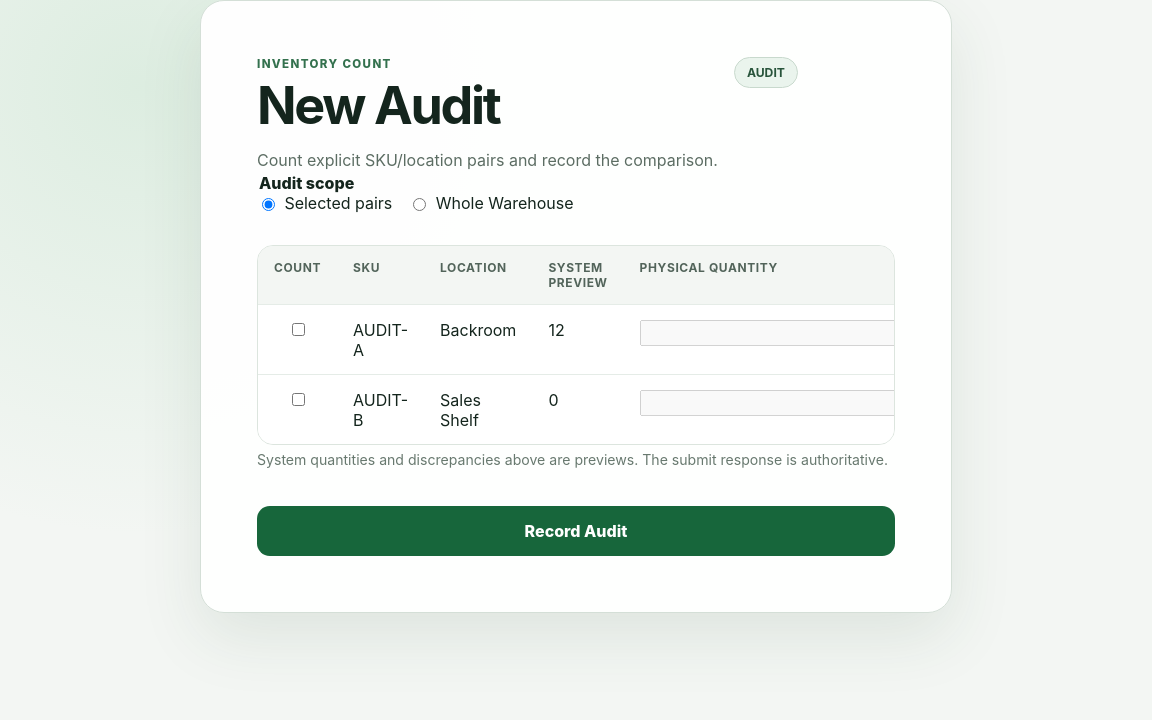
Test case: US-AUD-001 Audit page › reuses a key after response loss and shows stock-unchanged copy
Step 1. Click the checkbox named "Count AUDIT-B at SALES_SHELF" → click(298, 399), box [292,392,304,406]
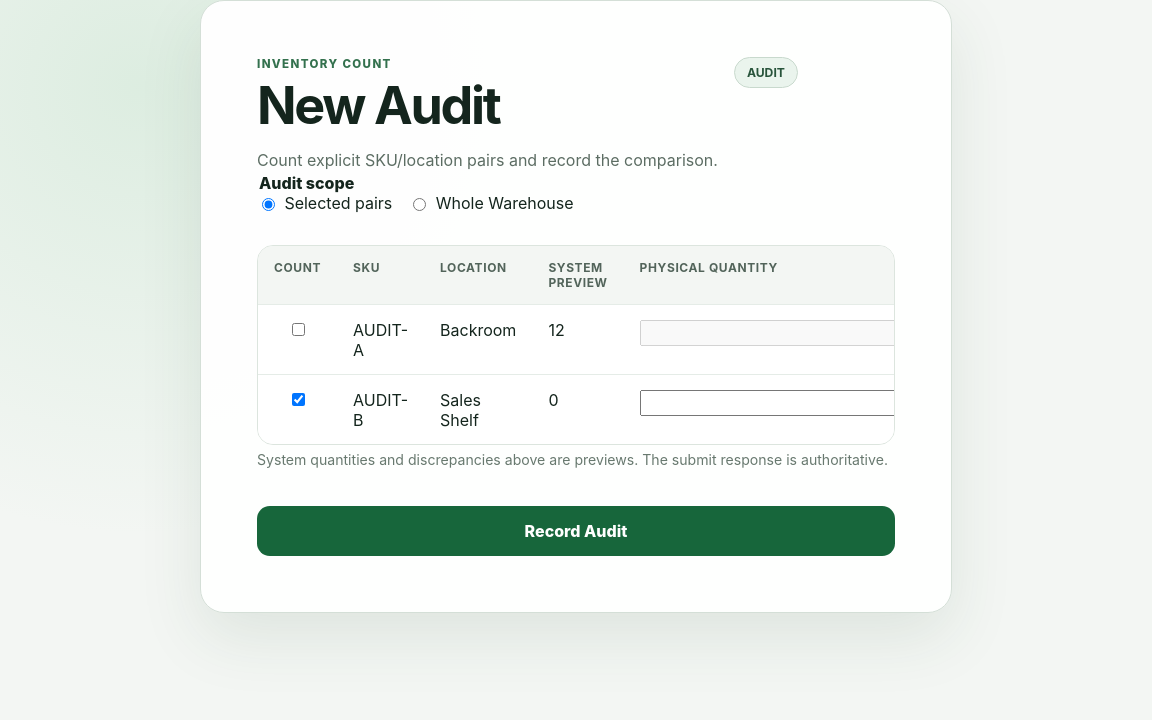
Step 2. Type "3" into the field named "Physical quantity for AUDIT-B at SALES_SHELF" → (768, 402), box [640,390,896,416]
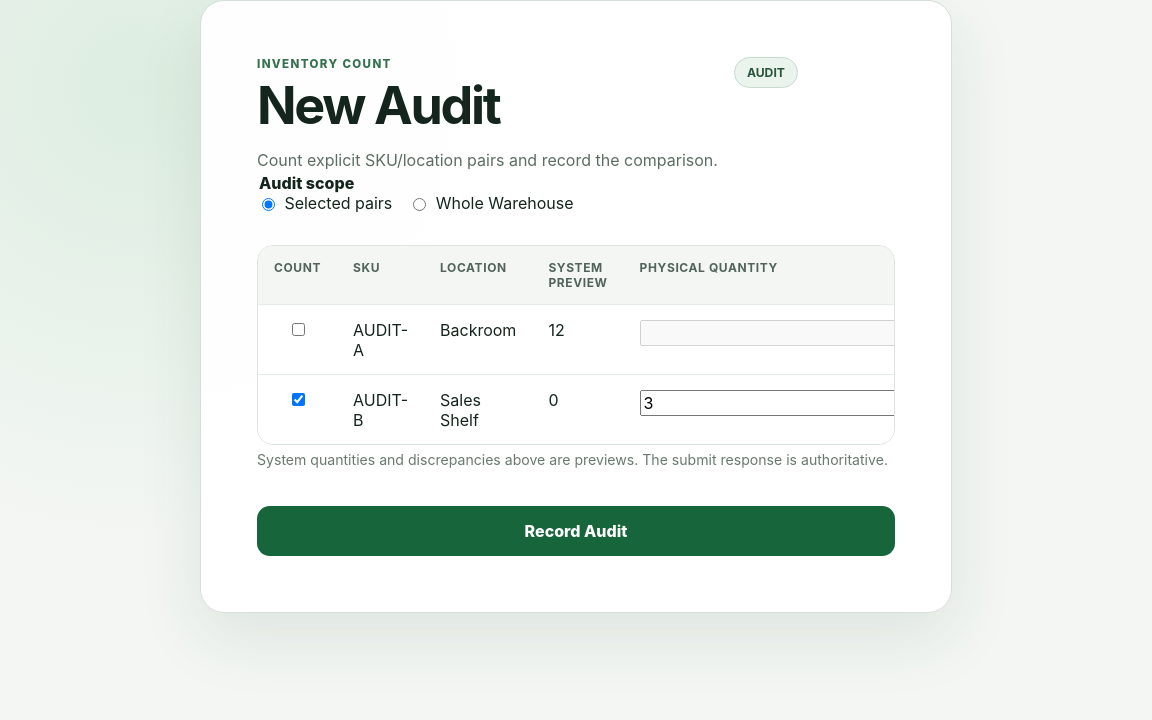
Step 3. Click the button "Record Audit" → click(576, 531), box [257,506,895,556]
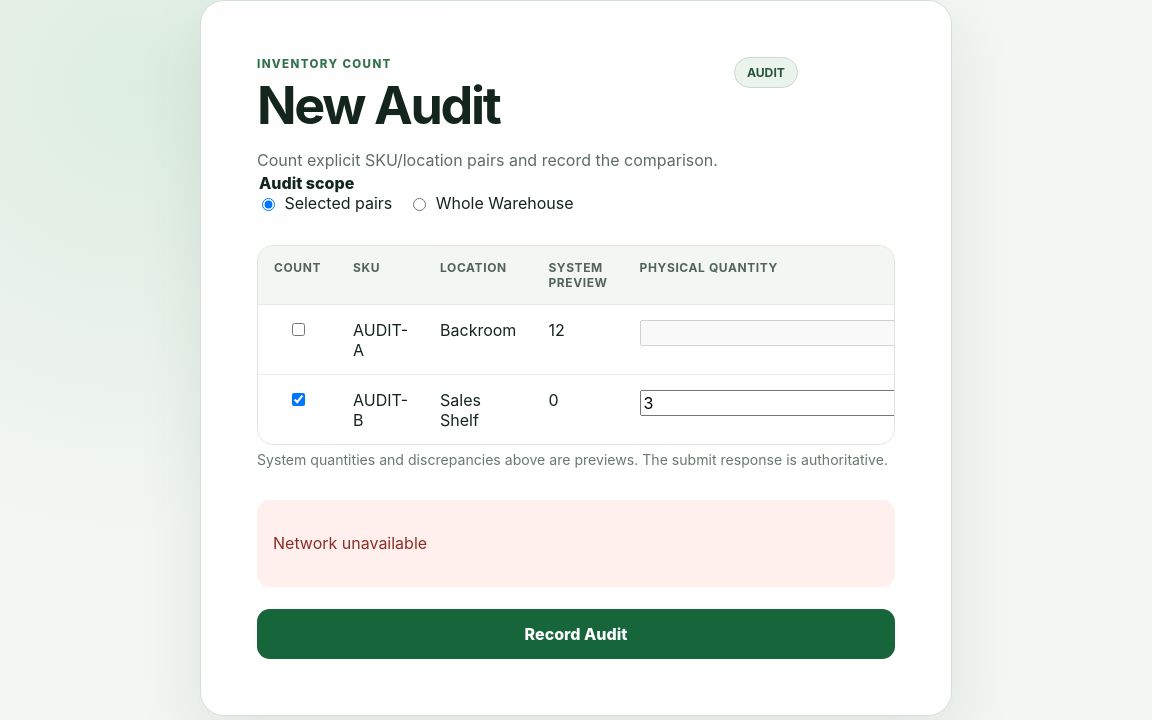
Expected: the message reads "Network unavailable", [273,532,427,552]
Step 4. Click the button "Record Audit" → click(576, 634), box [257,609,895,660]
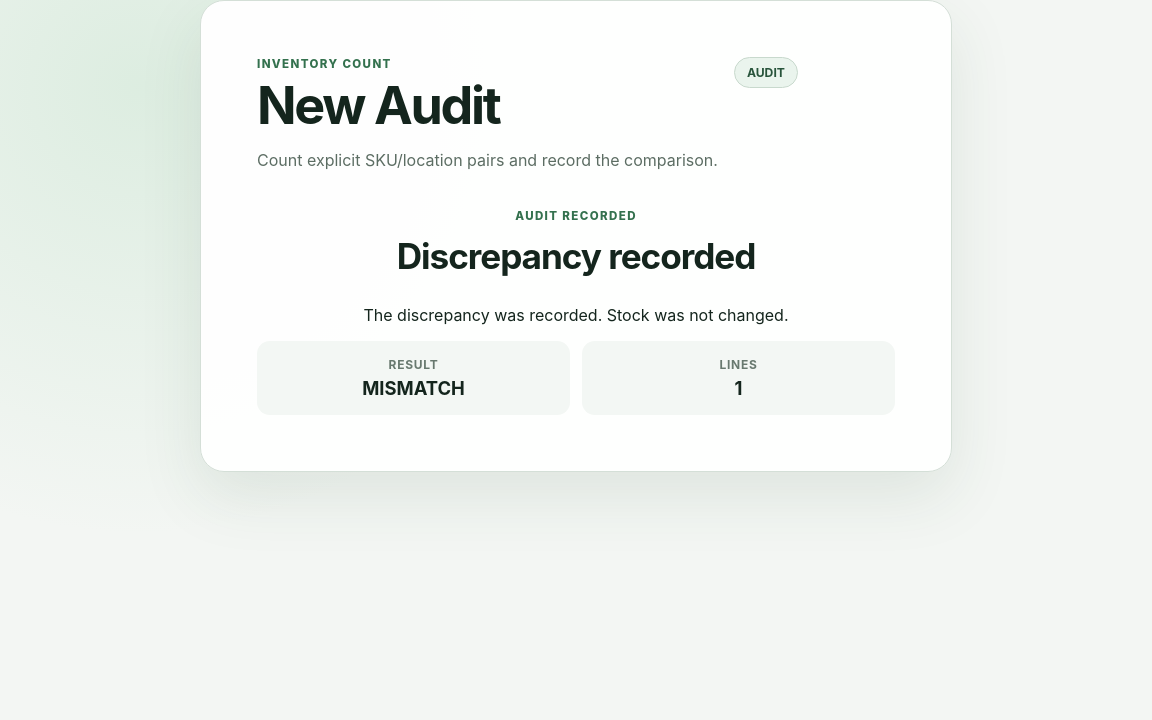
Expected: the heading "Discrepancy recorded" is shown, [397,235,755,277]
Expected: the text "The discrepancy was recorded. Stock was not changed." is shown, [364,305,789,325]
